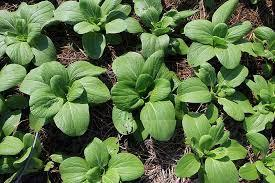Healthy-Pechay: (8, 12, 272, 183)
